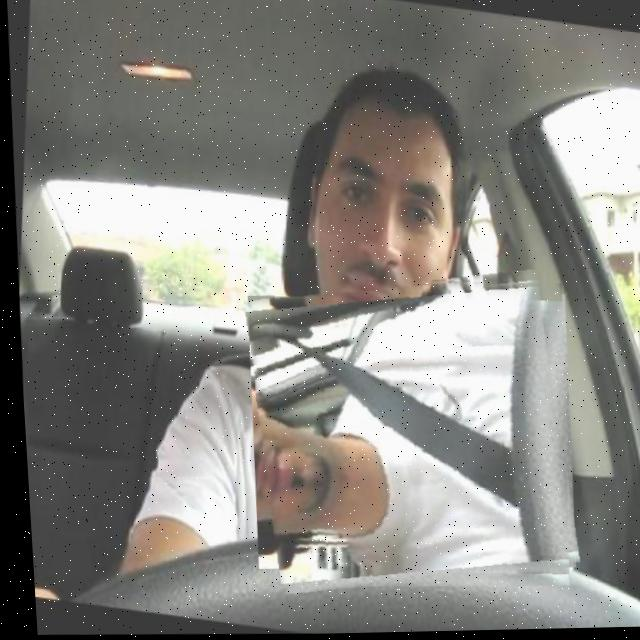seatbelt: (241, 272, 570, 592)
